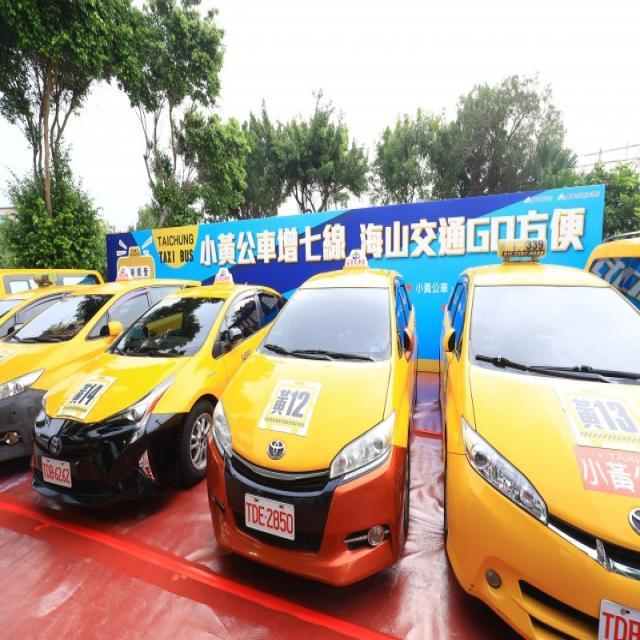Door: (440, 259, 640, 639), (31, 281, 285, 504)
Taxi: (208, 251, 418, 585)
